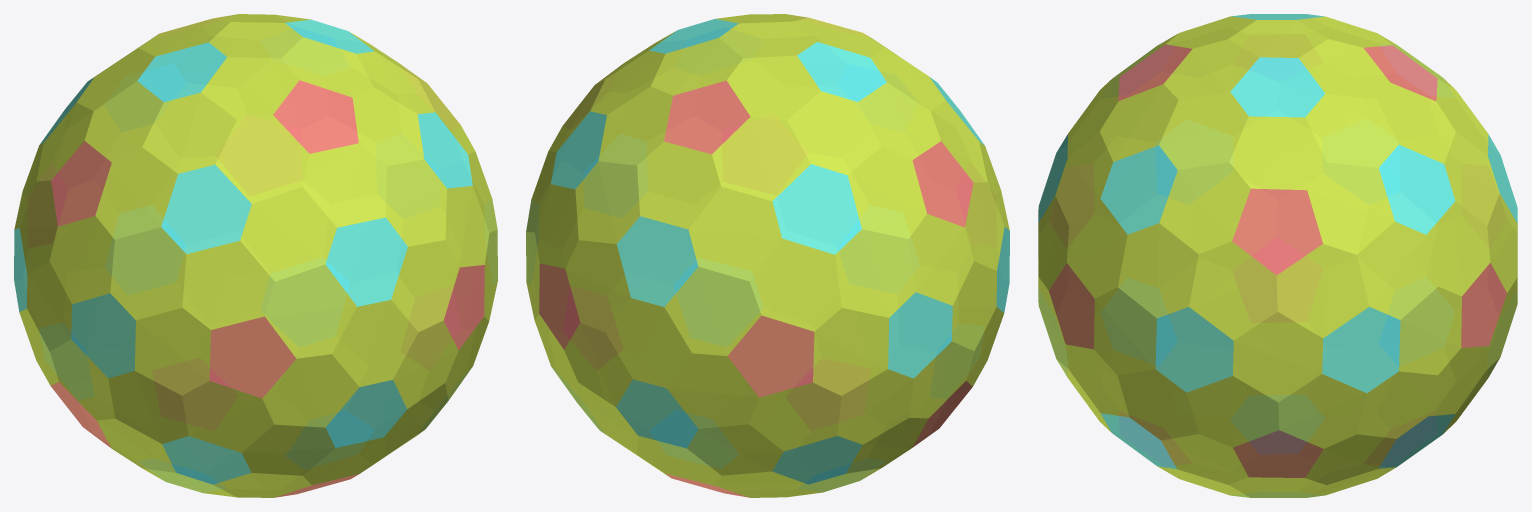
File: BiscribedPropelloTruncatedIcosahedron.obj
3 views of the same model, side by side, from view 1: azimuth 30°, elevation 25°; view 2: azimuth 150°, elevation 25°; view 3: azimuth 270°, elevation 25° (orthographic).
Size of the model in its own units: 2 by 2 by 2.
